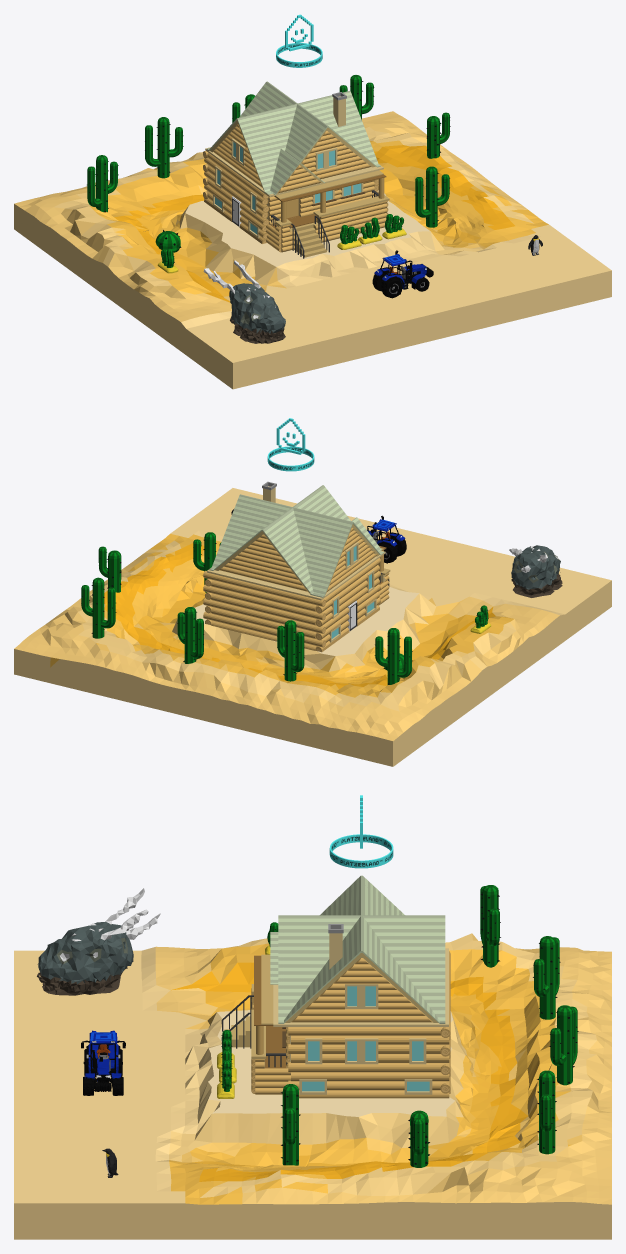
3 renders of one model, top to bottom at view 1: azimuth 30°, elevation 25°; view 2: azimuth 150°, elevation 25°; view 3: azimuth 270°, elevation 25°, orthographic. The views are drawn at different scales.
Visible parts, largest first — view 1: Cube.001, Cube.1516, OBJRANDOM_METEORITE, VEHICLES_TRACTOR, Cylinder.044, Cylinder.037, Cylinder.045, TYPE_PREMIUM, Cylinder.038, Cylinder.042; view 2: Cube.001, Cube.1516, OBJRANDOM_METEORITE, Cylinder.042, Cylinder.045, Cylinder.044, Cylinder.043, TYPE_PREMIUM, VEHICLES_TRACTOR, Cylinder.038, Cylinder.037; view 3: Cube.001, Cube.1516, OBJRANDOM_METEORITE, VEHICLES_TRACTOR, Cylinder.044, Cylinder.043, Cylinder.045, Cylinder.042, Cylinder.037, TYPE_PREMIUM, Cylinder.038.
Part boxes in pixels (x1,y1,x2,y2): Cube.001: (14,111,611,389); Cube.1516: (203,81,389,258); OBJRANDOM_METEORITE: (203,260,285,343); VEHICLES_TRACTOR: (372,250,433,298); Cylinder.044: (145,117,183,178); Cylinder.037: (415,166,449,227); Cylinder.045: (87,155,118,212); TYPE_PREMIUM: (276,14,322,67); Cylinder.038: (426,112,450,158); Cylinder.042: (339,75,374,119); Cube.001: (14,488,611,766); Cube.1516: (203,481,390,652); OBJRANDOM_METEORITE: (509,545,562,597); Cylinder.042: (81,577,116,638); Cylinder.045: (374,628,412,684); Cylinder.044: (277,620,304,681); Cylinder.043: (177,607,203,663); TYPE_PREMIUM: (267,418,314,471); VEHICLES_TRACTOR: (367,515,406,563); Cylinder.038: (98,546,121,592); Cylinder.037: (193,532,221,592); Cube.001: (14,933,611,1239); Cube.1516: (221,875,450,1098); OBJRANDOM_METEORITE: (37,888,160,995); VEHICLES_TRACTOR: (81,1030,125,1095); Cylinder.044: (533,936,560,1019); Cylinder.043: (549,1005,578,1085); Cylinder.045: (480,885,500,967); Cylinder.042: (537,1070,556,1154); Cylinder.037: (281,1084,300,1165); TYPE_PREMIUM: (329,795,393,868); Cylinder.038: (408,1110,429,1167).
Size of the model in its own units: 4002 by 2415 by 4001.
38 materials, 4 textured.
